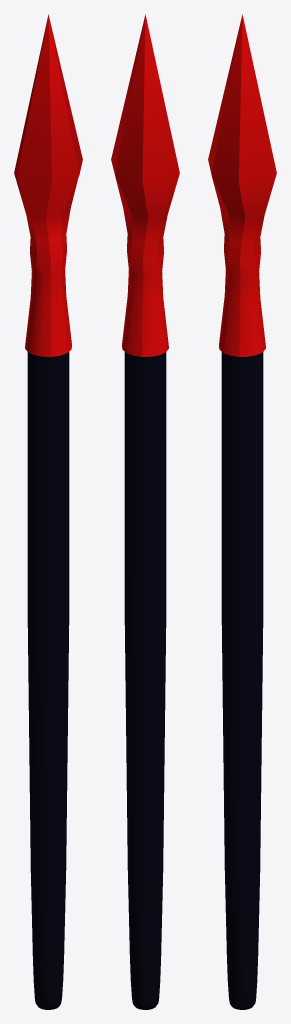
File: helmet.fbx
3 views of the same model, side by side, from view 1: azimuth 30°, elevation 25°; view 2: azimuth 150°, elevation 25°; view 3: azimuth 330°, elevation 25° (orthographic).
Parts seen in each view (by area): view 1: Staff; view 2: Staff; view 3: Staff.
Boxes of the visible parts, <box> form: Staff: <box>14,14,82,1009</box>; Staff: <box>111,14,179,1009</box>; Staff: <box>208,14,276,1009</box>.
Bounding box in the file's own units: 129 × 1864 × 115.
